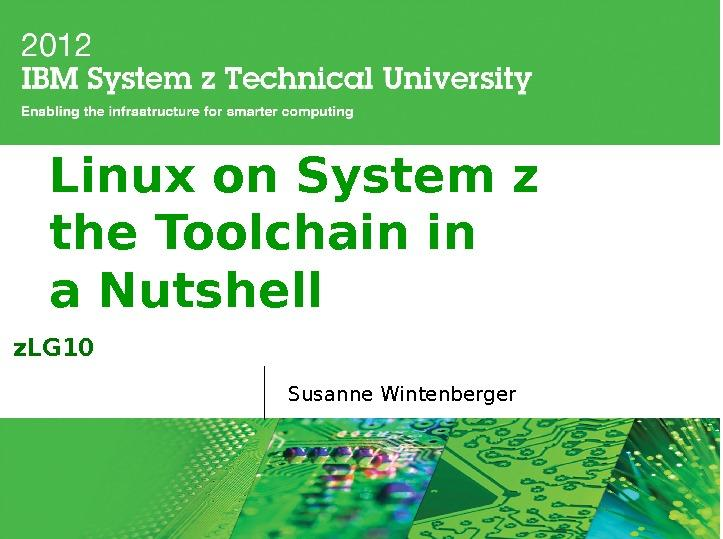subtitle: (7, 145, 635, 413)
title: (10, 26, 571, 125)
